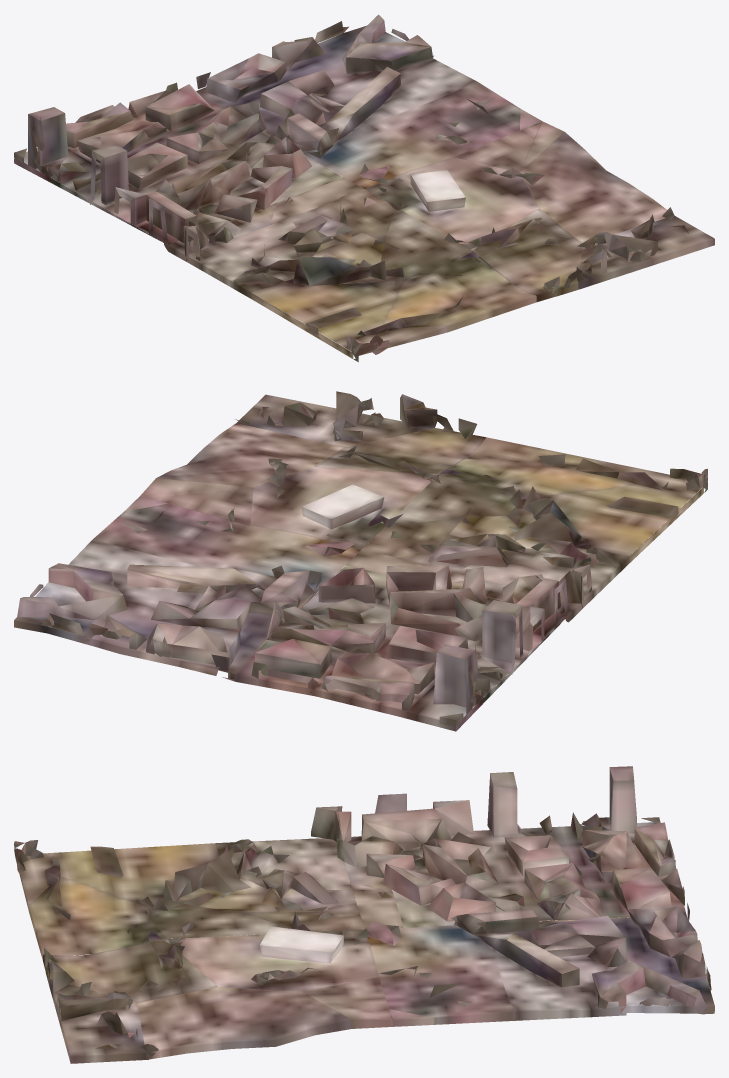
The picture shows the model from 3 angles, top to bottom: view 1: azimuth 30°, elevation 25°; view 2: azimuth 150°, elevation 25°; view 3: azimuth 270°, elevation 25°; orthographic projection. The views are drawn at different scales.
Parts seen in each view (by area): view 1: Mesh_0; view 2: Mesh_0; view 3: Mesh_0.
Part boxes in pixels (x1,y1,x2,y2): Mesh_0: [14, 14, 714, 362]; Mesh_0: [14, 391, 707, 731]; Mesh_0: [14, 766, 714, 1063].
Size of the model in its own units: 532 by 76.67 by 660.
1 material, 1 textured.
